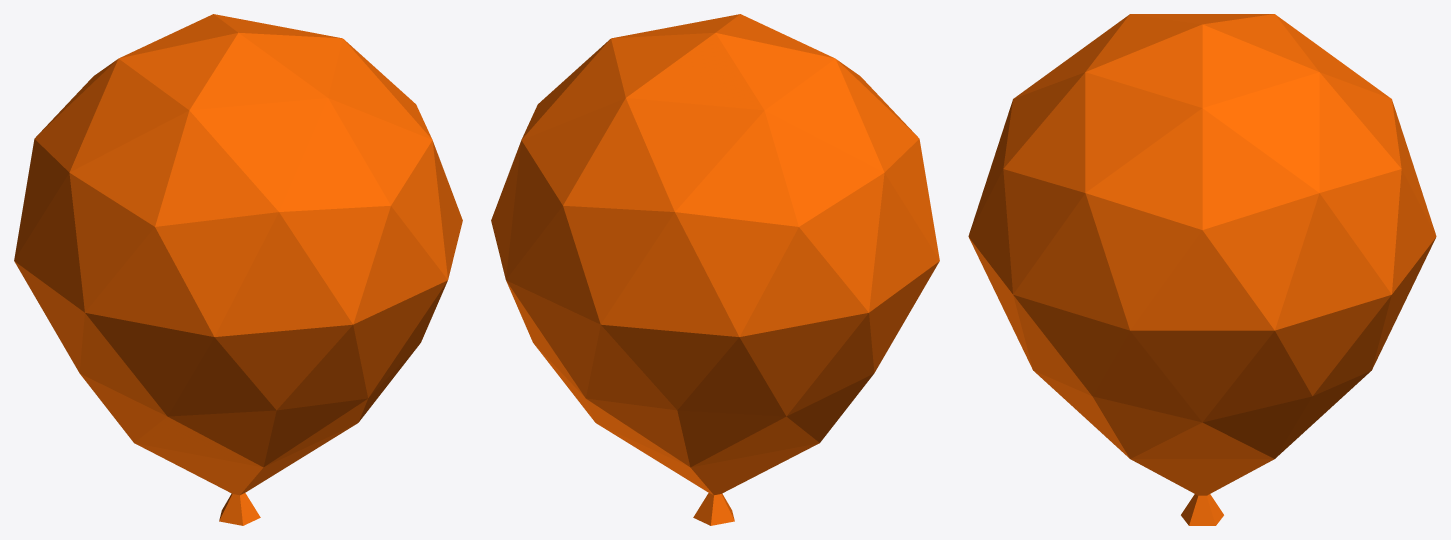
The model's file is item_water_balloon_red.glb.
3 renders of one model, left to right at view 1: azimuth 30°, elevation 25°; view 2: azimuth 150°, elevation 25°; view 3: azimuth 270°, elevation 25°, orthographic. The views are drawn at different scales.
Parts seen in each view (by area): view 1: Balloon; view 2: Balloon; view 3: Balloon.
Boxes of the visible parts, bbox=[...] form: Balloon: bbox=[14, 14, 462, 525]; Balloon: bbox=[491, 14, 939, 525]; Balloon: bbox=[968, 14, 1436, 525].
Size of the model in its own units: 0.2703 by 0.3307 by 0.2842.
